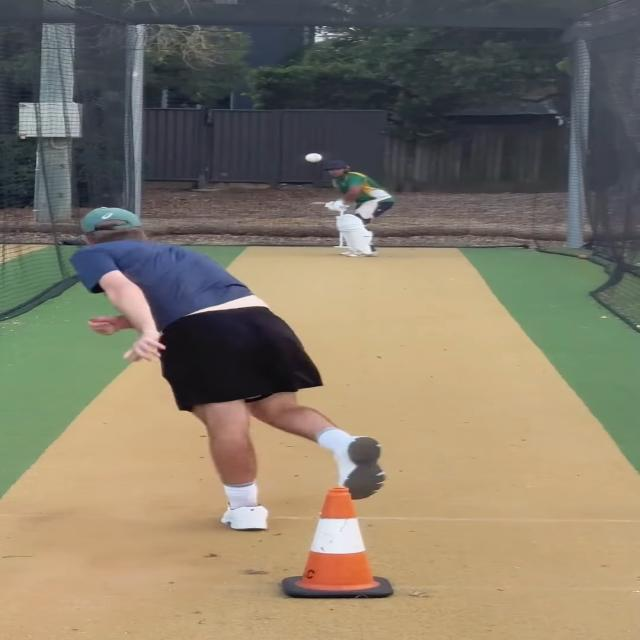Cricket ball: (302, 151, 328, 165)
